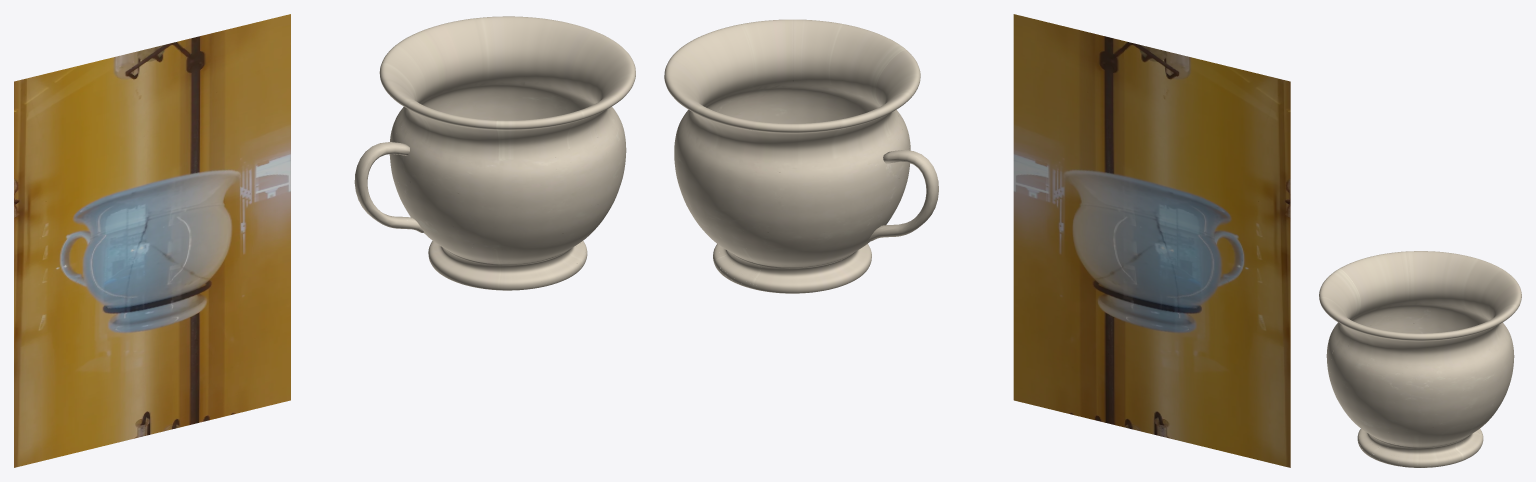
Rendered from bacinilla_de_porcelana_antigua.lod1.glb.
3 views of the same model, side by side, from view 1: azimuth 30°, elevation 25°; view 2: azimuth 150°, elevation 25°; view 3: azimuth 270°, elevation 25° (orthographic). The views are drawn at different scales.
Visible parts, largest first — view 1: Object_4, Sphere_1, BezierCurve_2; view 2: Object_4, Sphere_1, BezierCurve_2; view 3: Sphere_1.
Boxes of the visible parts, box(x1,y1,x2,y2) form: Object_4: box(14, 14, 290, 467); Sphere_1: box(379, 16, 635, 290); BezierCurve_2: box(354, 142, 423, 232); Object_4: box(1013, 14, 1290, 467); Sphere_1: box(664, 19, 920, 293); BezierCurve_2: box(868, 150, 938, 241); Sphere_1: box(1319, 251, 1521, 467).
Size of the model in its own units: 2.19 by 1.33 by 0.8015.
Materials: 4 (3 with a texture image).
